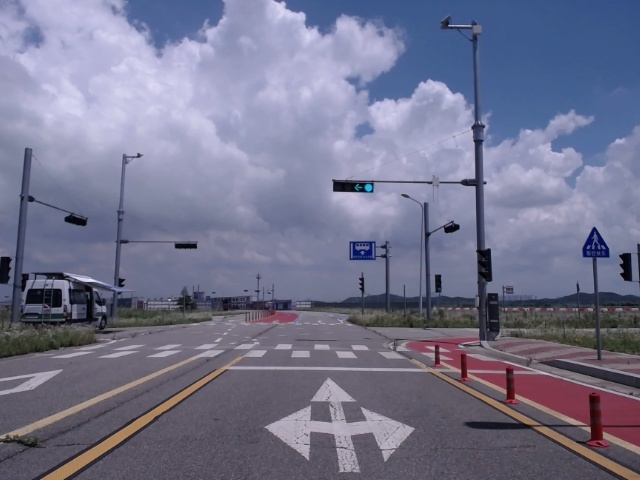all_green_4: (332, 180, 373, 193)
